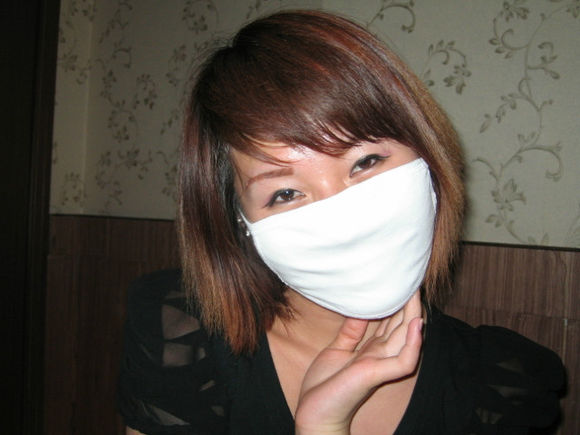face_mask: (244, 119, 438, 321)
